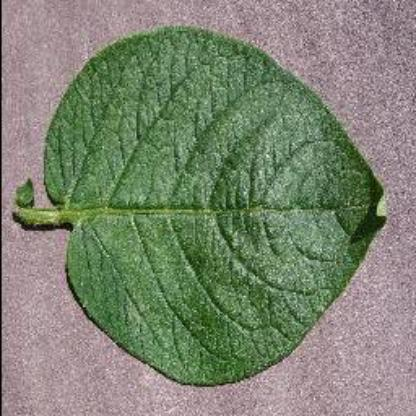Healthy-plant: (14, 20, 392, 386)
